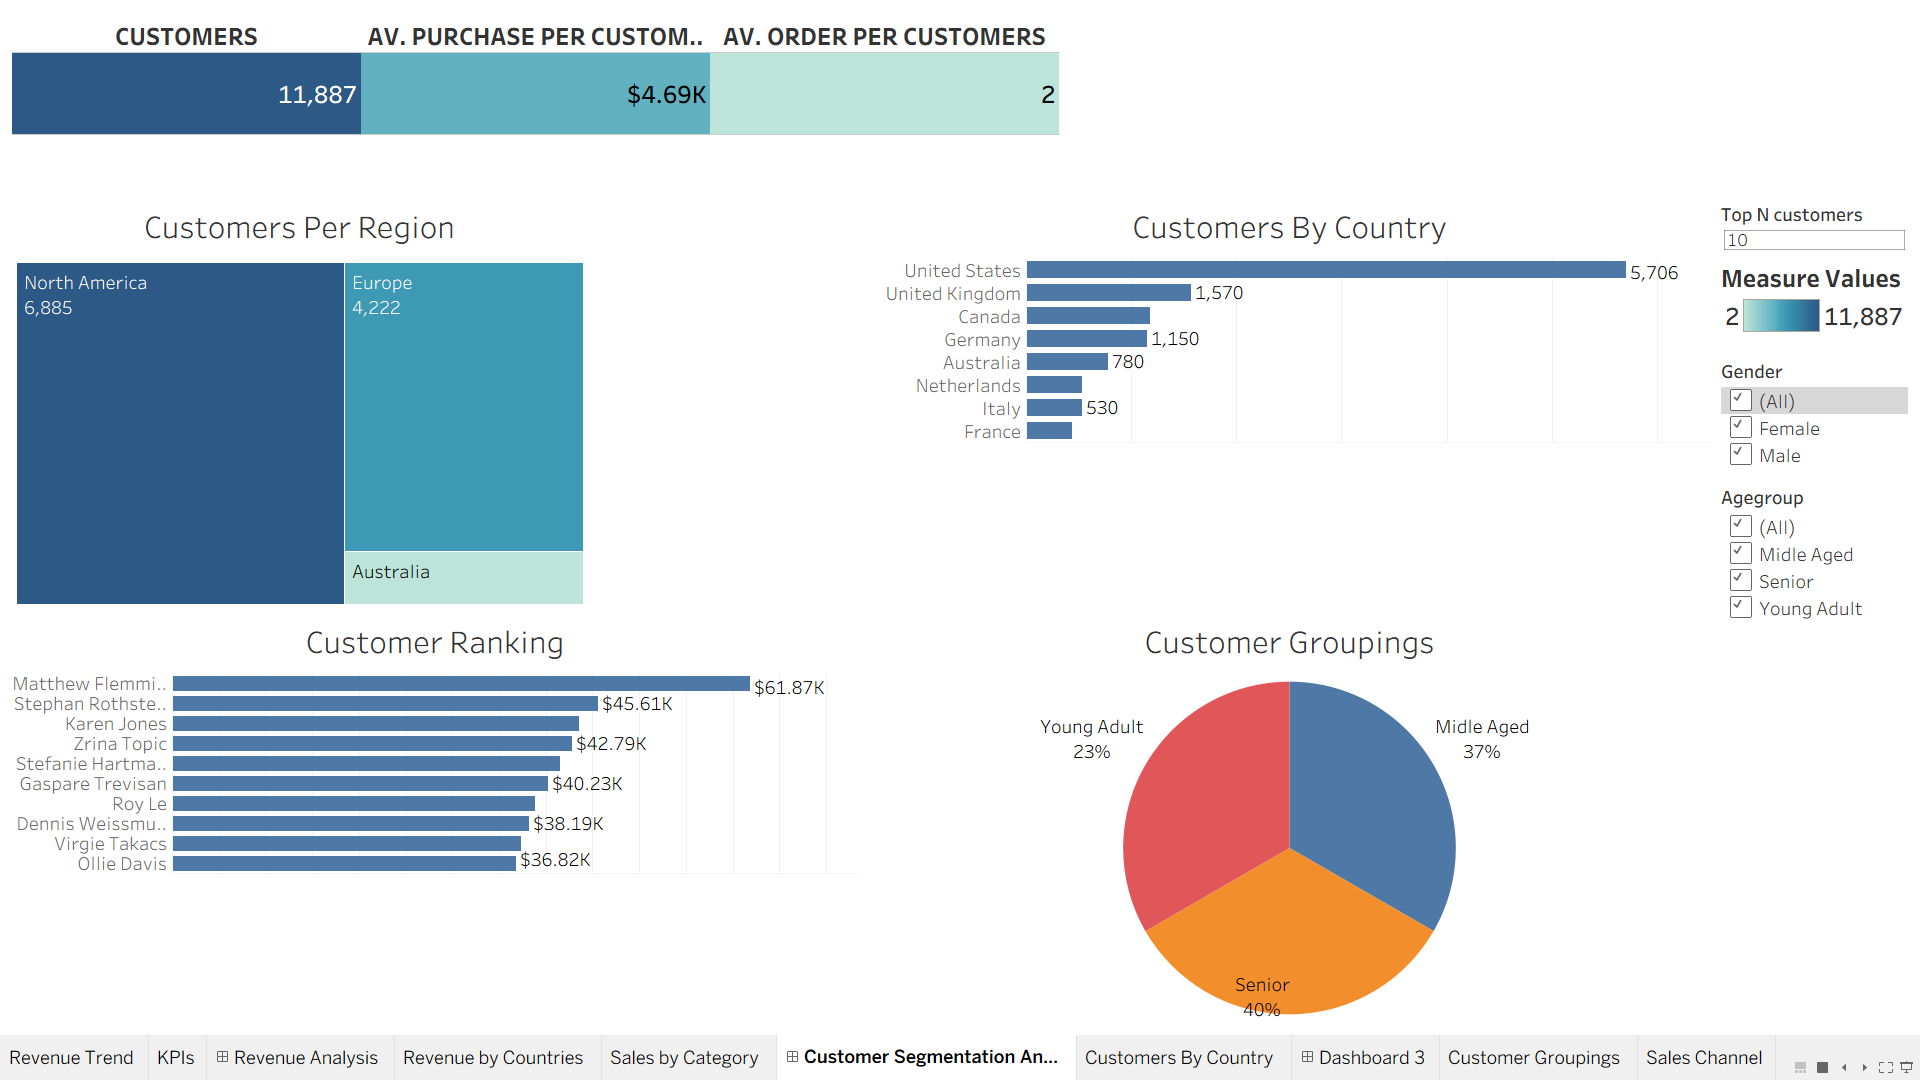

What the dashboard file says about the page in this screenshot:
{"tool":"tableau","page":{"name":"Customer Segmentation Analysis","canvas":[1000,1000],"units":"permille","ordinal":0},"visuals":[{"type":"worksheet","title":"kpis","mark":"Square","box":[5,9.9,990,182.2]},{"type":"worksheet","title":"Customers per Region","mark":"Automatic","box":[5,192.2,434.2,398.9]},{"type":"worksheet","title":"Customers By Country","mark":"Automatic","rows":["Country"],"cols":["Calculation_0455202915405830"],"box":[439.1,192.2,434.3,398.8]},{"type":"parameter","param":"[Parameters].[Parameter 1]","box":[873.4,192.2,121.6,74.5]},{"type":"legend","title":"kpis","param":"[federated.0ge9wmj05uecb918uvem30nntbdm].[Multiple Values]","box":[873.4,266.6,121.6,120.4]},{"type":"filter","title":"Customers By Country","param":"[federated.0ge9wmj05uecb918uvem30nntbdm].[none:Gender:nk]","box":[873.4,386.9,121.6,156.3]},{"type":"filter","title":"Customer Ranking","param":"[federated.0ge9wmj05uecb918uvem30nntbdm].[none:Agegroup:nk]","box":[873.4,543.3,121.6,183.6]},{"type":"worksheet","title":"Customer Groupings","mark":"Pie","box":[439.1,591,434.3,399.1]},{"type":"worksheet","title":"Customer Ranking","mark":"Automatic","rows":["Name"],"cols":["Calculation_0455202526003200"],"box":[5,591.1,434.2,399]}]}

Visuals, with their boxes on the dashboard's canvas, which has no fixed pixel size, in thousandths of its width and height (x1, y1, x2, y2). These are canvas units, not pixel positions in the 1920x1080 screenshot, which may show the page scaled, cropped or inside an application window:
"kpis" worksheet (Square marks): x1=5 y1=10 x2=995 y2=192
"Customers per Region" worksheet: x1=5 y1=192 x2=439 y2=591
"Customers By Country" worksheet: x1=439 y1=192 x2=873 y2=591
parameter: x1=873 y1=192 x2=995 y2=267
"kpis" legend: x1=873 y1=267 x2=995 y2=387
"Customers By Country" filter: x1=873 y1=387 x2=995 y2=543
"Customer Ranking" filter: x1=873 y1=543 x2=995 y2=727
"Customer Groupings" worksheet (Pie marks): x1=439 y1=591 x2=873 y2=990
"Customer Ranking" worksheet: x1=5 y1=591 x2=439 y2=990
